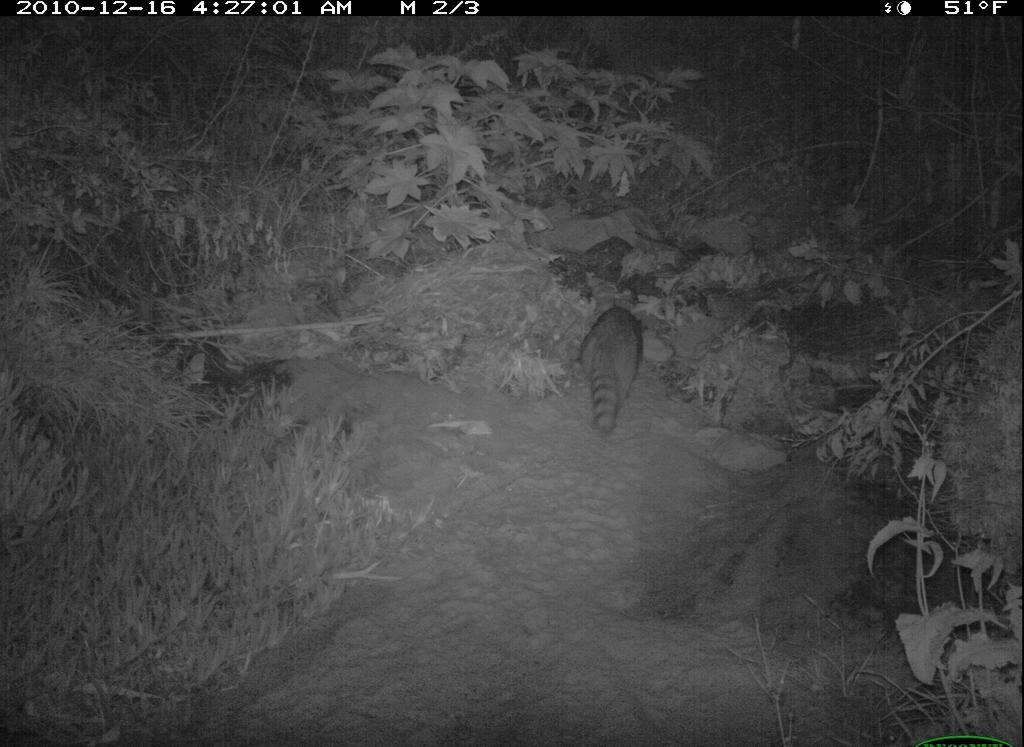raccoon: (565, 262, 670, 437)
